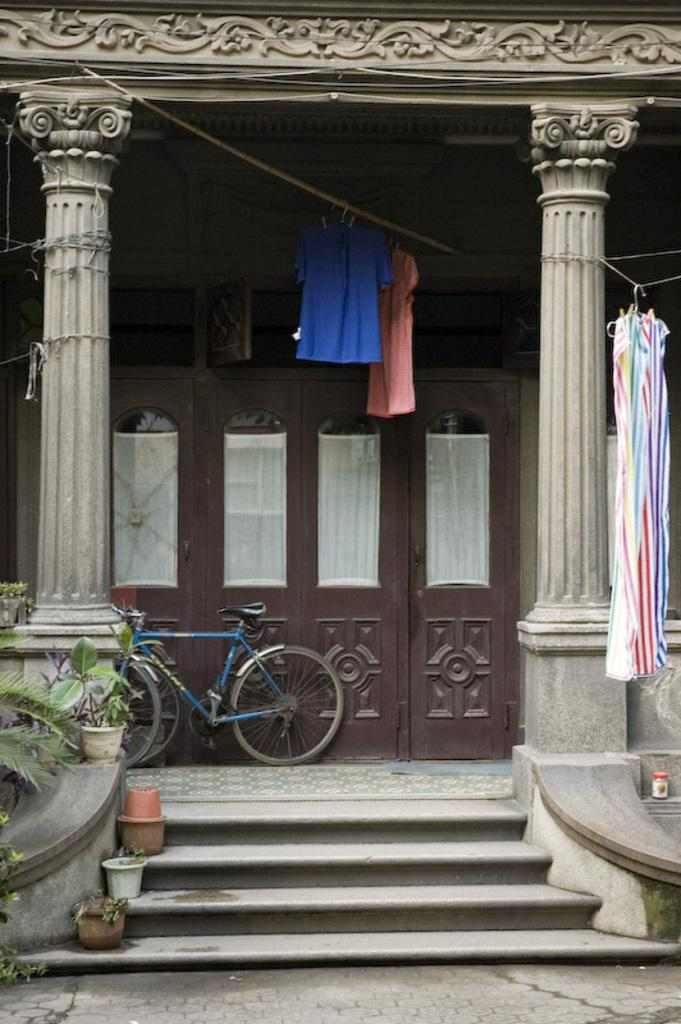door: (306, 391, 402, 764), (409, 395, 505, 751), (220, 408, 302, 771), (115, 402, 194, 762)
